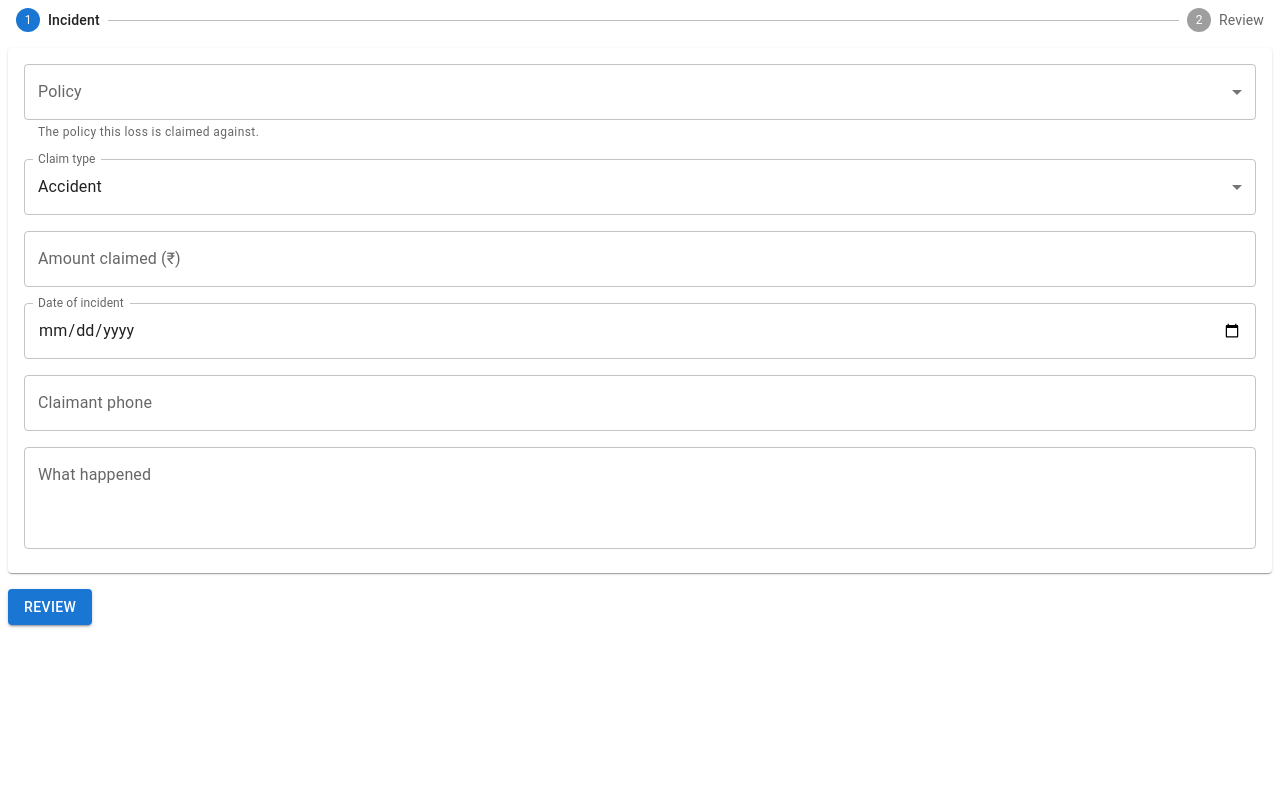
it: ClaimIntake › blocks an invalid from reaching review
The image size is (1280, 800).
Click the button "Review": (50, 607) [8,589,92,625]
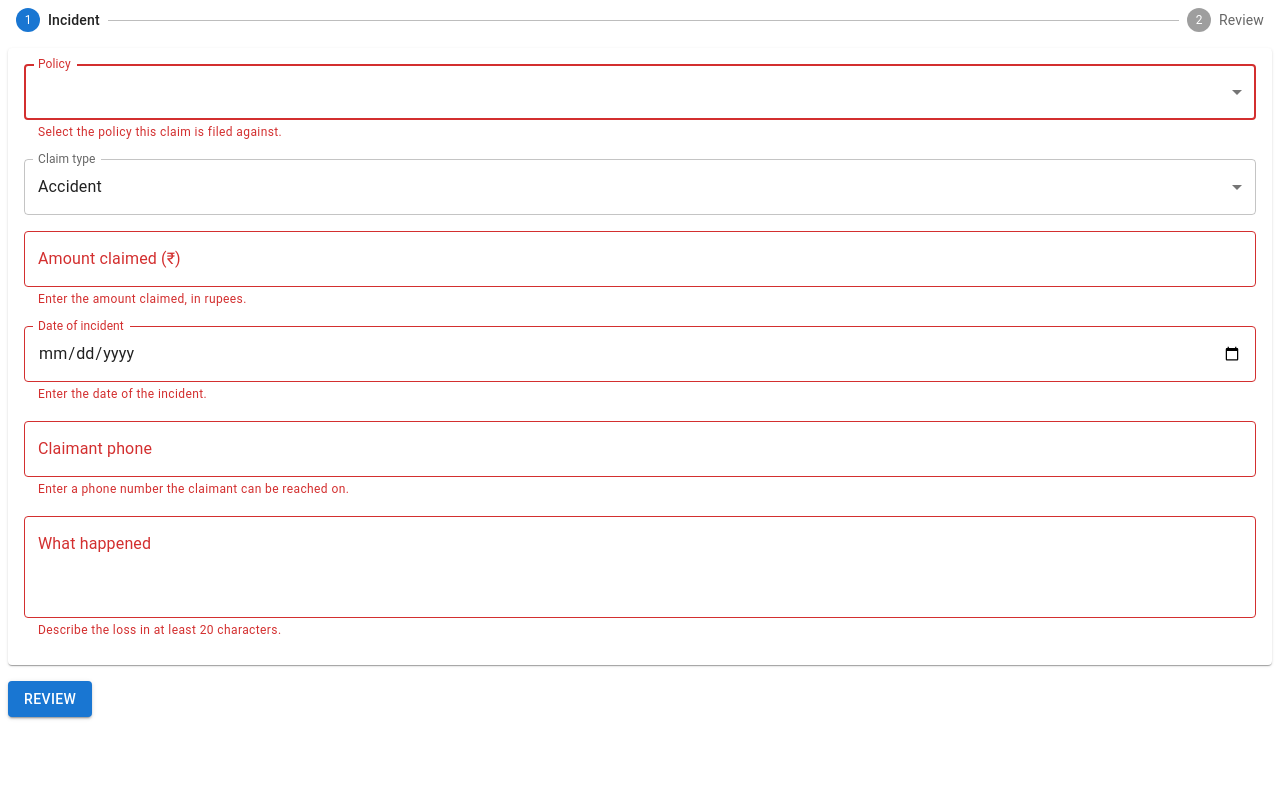
expect the text box labelled "What happened" is shown: met, box [38,532,1242,601]
expect the text "Describe the loss in at least 20 characters." is shown: met, box [38,623,282,637]
